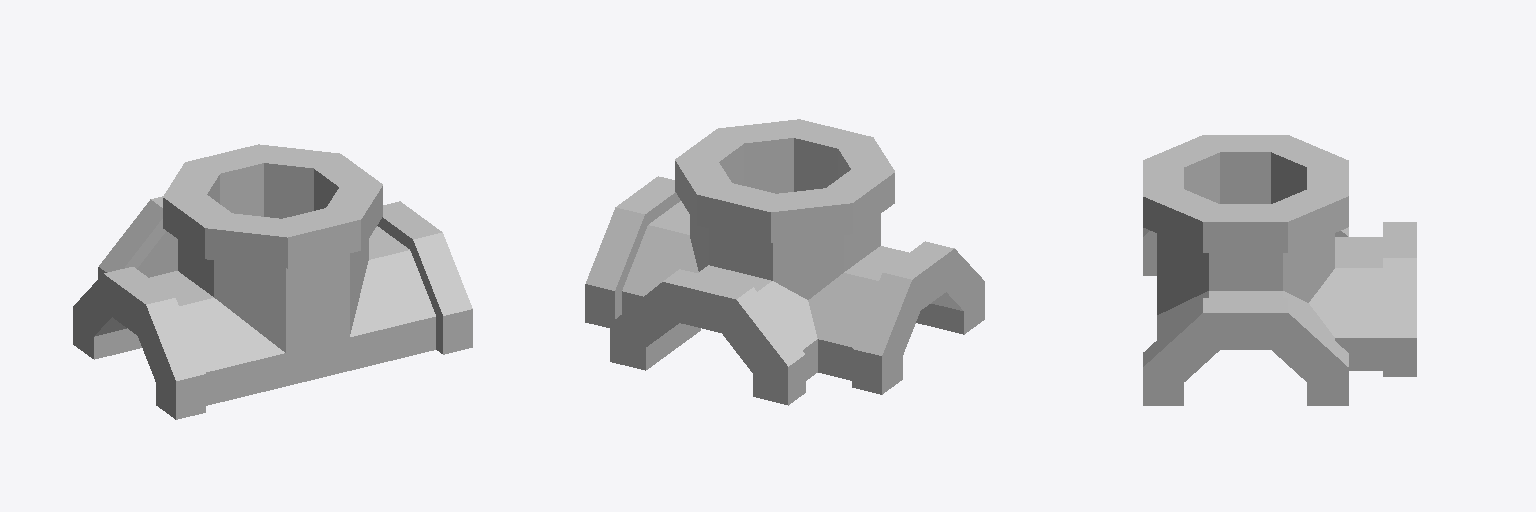
File: Upgraded Drain Pipe - T-shape.obj.obj
The picture shows the model from 3 angles: view 1: azimuth 30°, elevation 25°; view 2: azimuth 150°, elevation 25°; view 3: azimuth 270°, elevation 25°; orthographic projection.
Parts seen in each view (by area): view 1: Upgraded_Drain_Pipe_-_T-shape; view 2: Upgraded_Drain_Pipe_-_T-shape; view 3: Upgraded_Drain_Pipe_-_T-shape.
Boxes of the visible parts, <box> form: Upgraded_Drain_Pipe_-_T-shape: <box>73,144,472,419</box>; Upgraded_Drain_Pipe_-_T-shape: <box>585,119,984,405</box>; Upgraded_Drain_Pipe_-_T-shape: <box>1143,135,1416,405</box>.
Bounding box in the file's own units: 1 × 0.5 × 0.8.